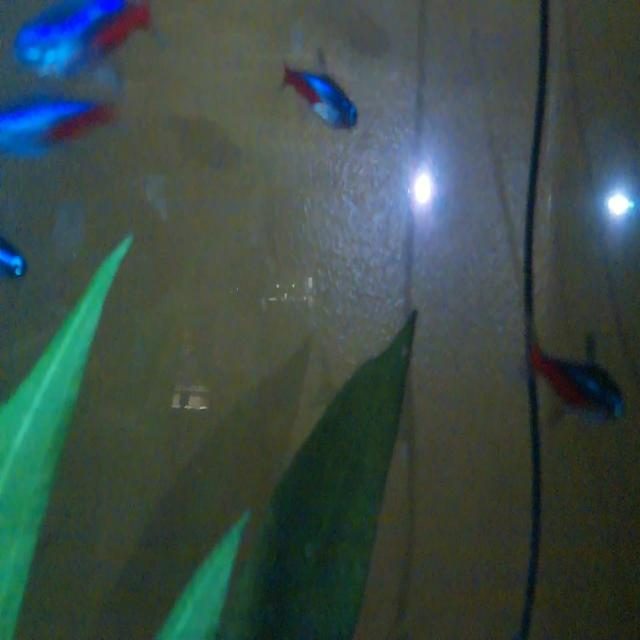fish: (280, 49, 358, 145)
